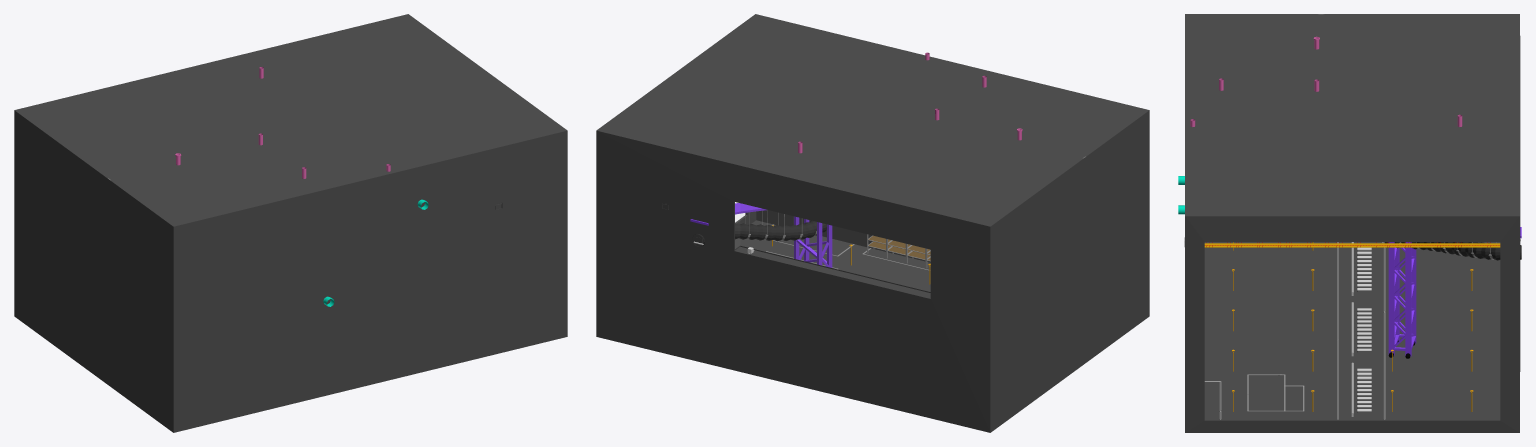
File: Hangar2.fbx
3 views of the same model, side by side, from view 1: azimuth 30°, elevation 25°; view 2: azimuth 150°, elevation 25°; view 3: azimuth 270°, elevation 25° (orthographic). The views are drawn at different scales.
Parts seen in each view (by area): view 1: HangarBody; view 2: HangarBody, UmbilicalCrane, UmbilicalTemp, HangarViewingPlatform, WarehouseShelf; view 3: HangarBody, UmbilicalCrane, Walkway.005, UmbilicalTemp, LightPole, Table.002, Table.001, Table.
Boxes of the visible parts, bbox=[...] form: HangarBody: bbox=[14, 14, 567, 432]; HangarBody: bbox=[596, 14, 1149, 432]; UmbilicalCrane: bbox=[690, 203, 832, 267]; UmbilicalTemp: bbox=[692, 220, 826, 246]; HangarViewingPlatform: bbox=[735, 245, 930, 298]; WarehouseShelf: bbox=[867, 234, 930, 268]; HangarBody: bbox=[1185, 14, 1520, 432]; UmbilicalCrane: bbox=[1388, 227, 1521, 358]; Walkway.005: bbox=[1204, 242, 1500, 247]; UmbilicalTemp: bbox=[1384, 242, 1521, 260]; LightPole: bbox=[1232, 242, 1473, 411]; Table.002: bbox=[1357, 368, 1371, 412]; Table.001: bbox=[1357, 247, 1371, 291]; Table: bbox=[1357, 308, 1371, 351].
Size of the model in its own units: 20079 by 10514 by 14382.
